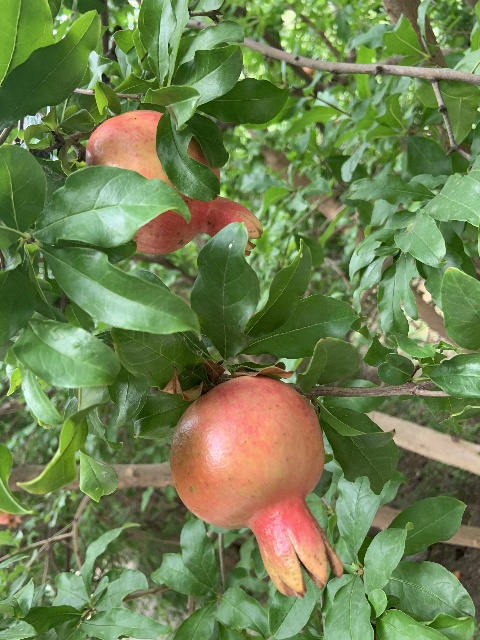ripe: (169, 374, 342, 599), (87, 109, 261, 256)
